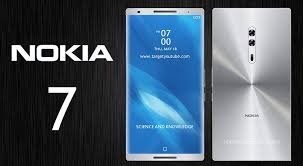nokia: (208, 6, 295, 165), (121, 3, 208, 162)
